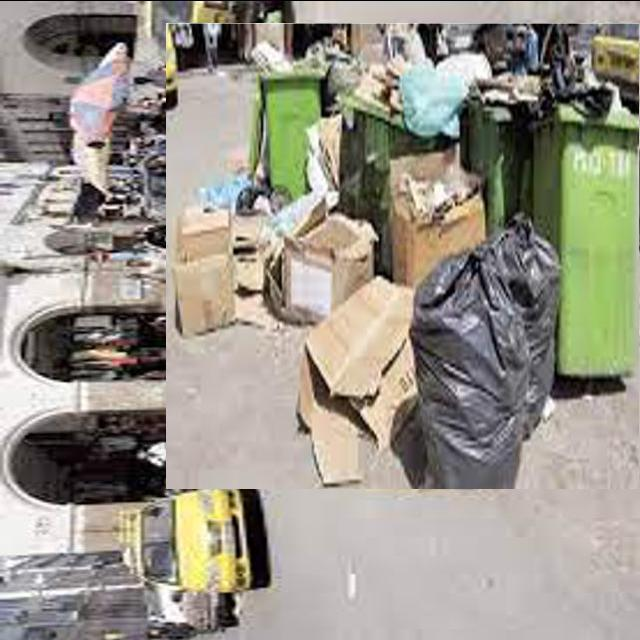Trashbag: (414, 246, 515, 487), (500, 221, 566, 443)
